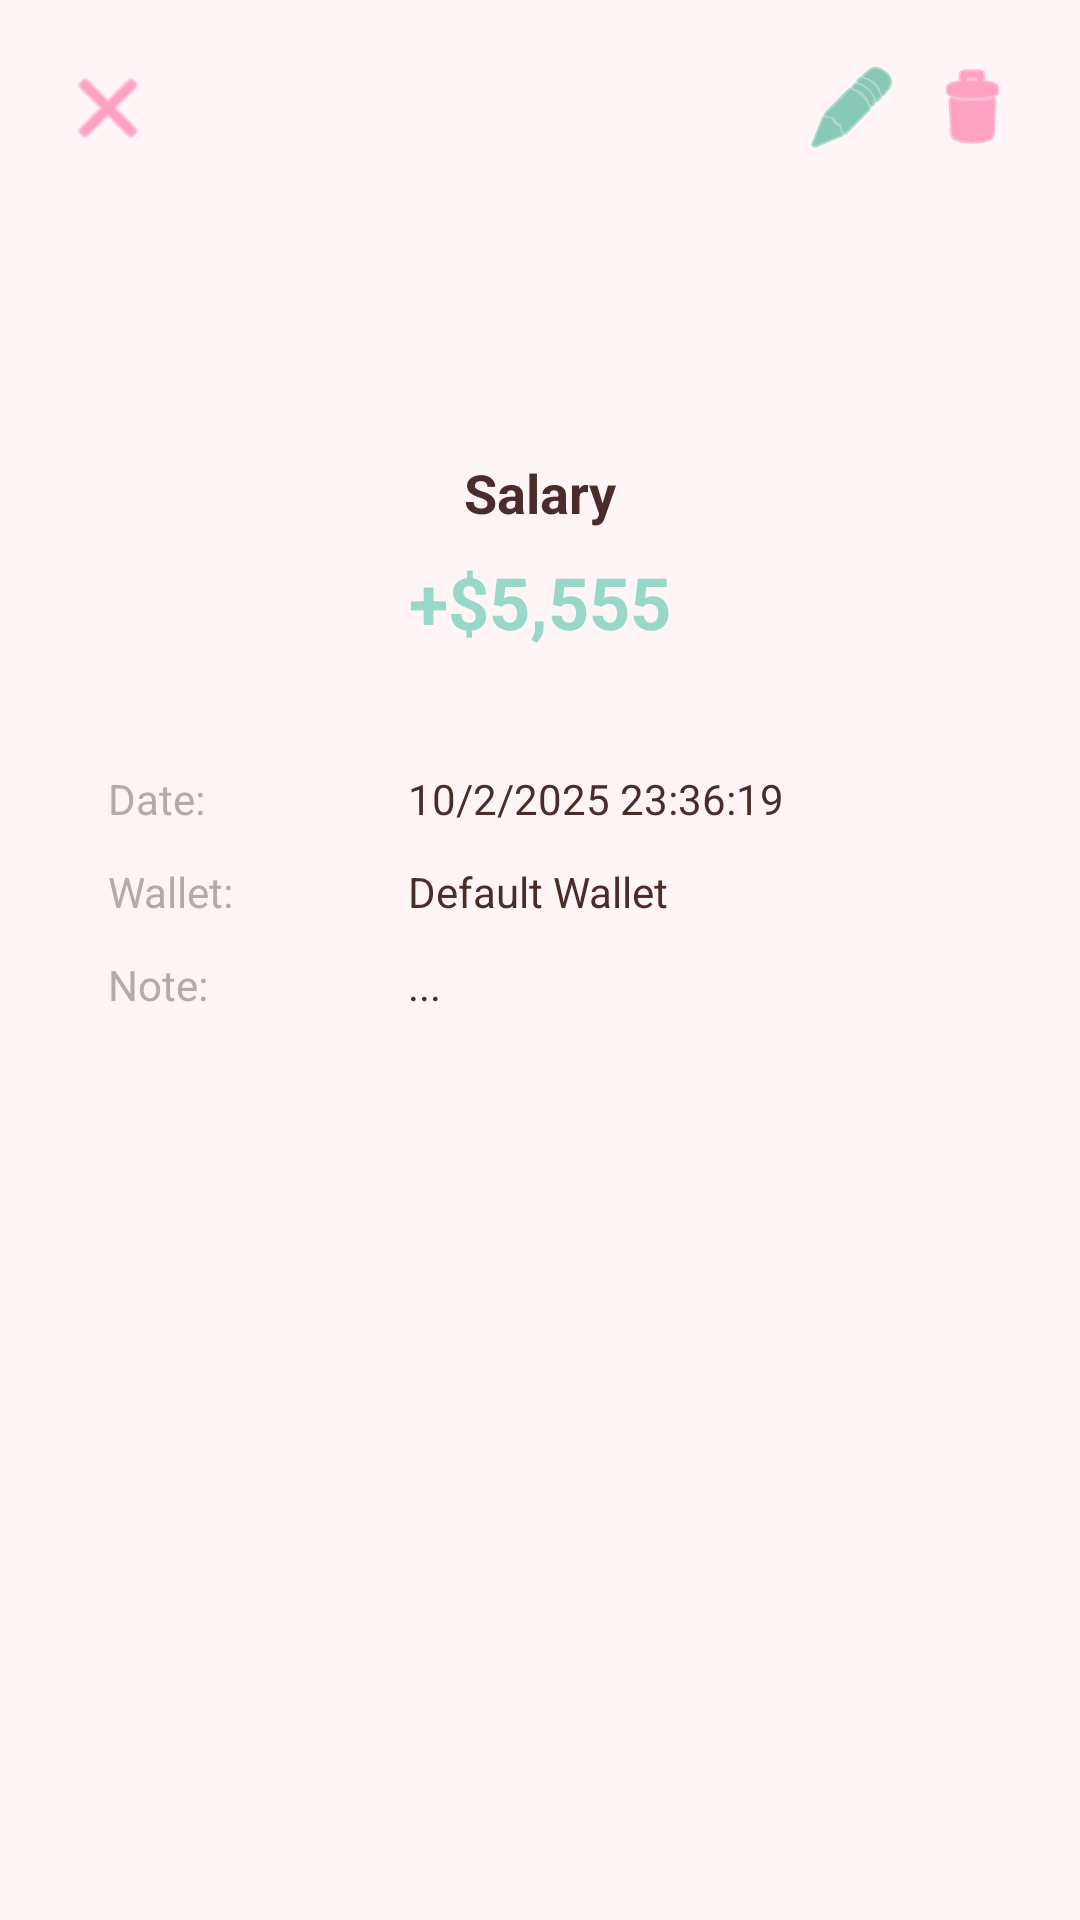

Point at icon controls on the screen. Image size 1080px x 1920px, points as point (x, y).
Close: point (108, 108)
Delete: point (972, 106)
Edit: point (851, 107)
